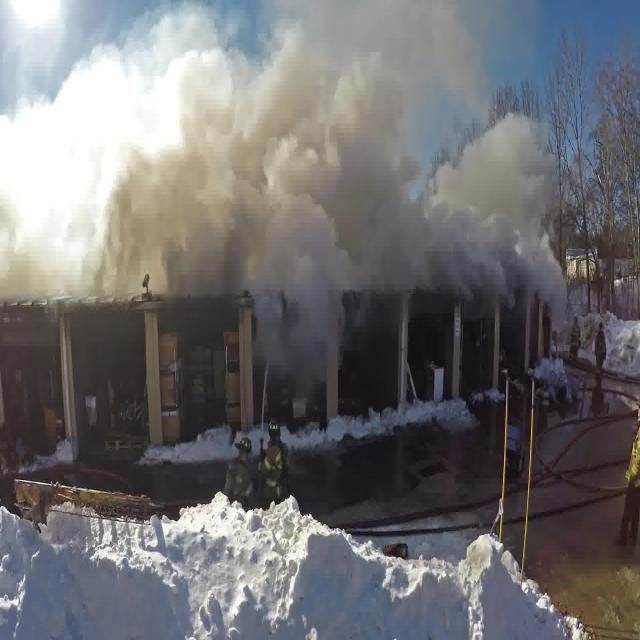Smoke: (2, 4, 586, 336)
